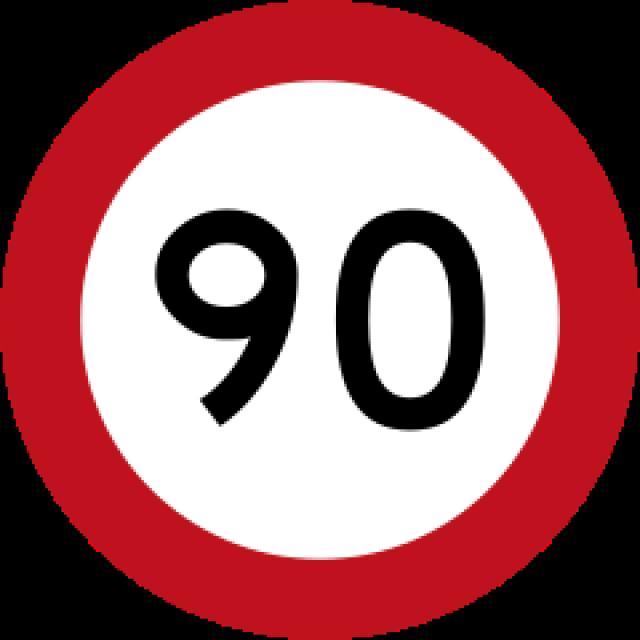Speed Limit -90-: (149, 200, 492, 435)
